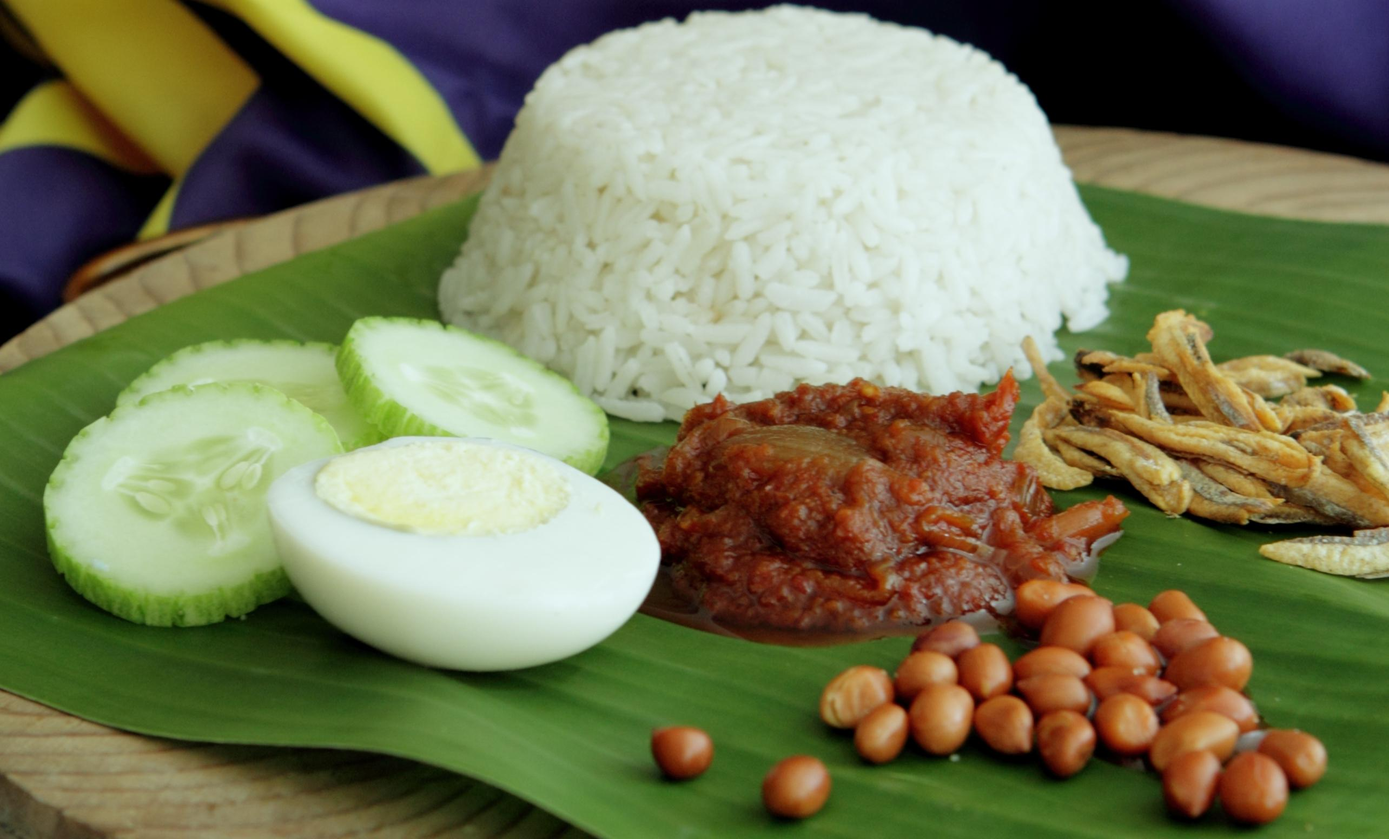Anchovies: (1035, 312, 1389, 537)
Boiled-Egg: (264, 437, 663, 674)
Cucumber: (47, 321, 631, 630)
Peanuts: (818, 592, 1329, 830)
Rice: (434, 8, 1129, 427)
Sambal: (615, 382, 1107, 634)
